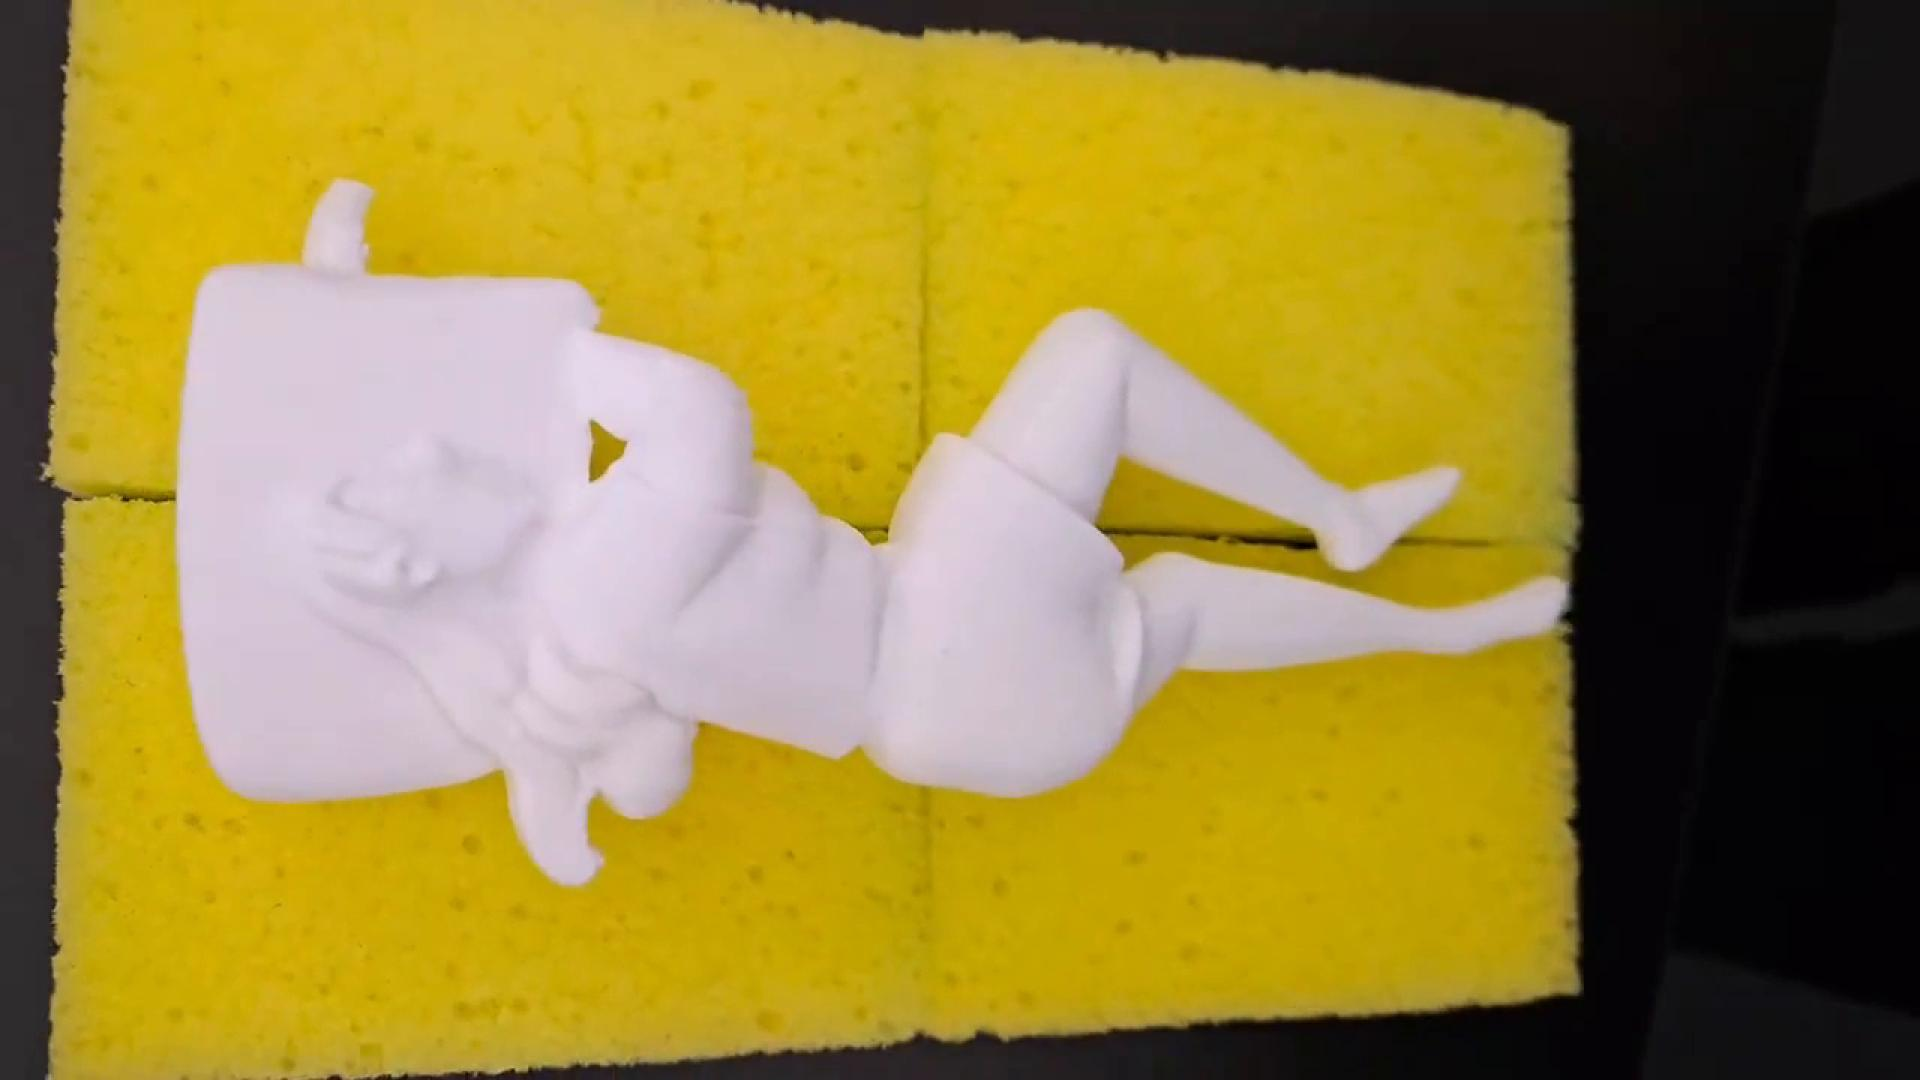Good-style: (173, 165, 1569, 891)
